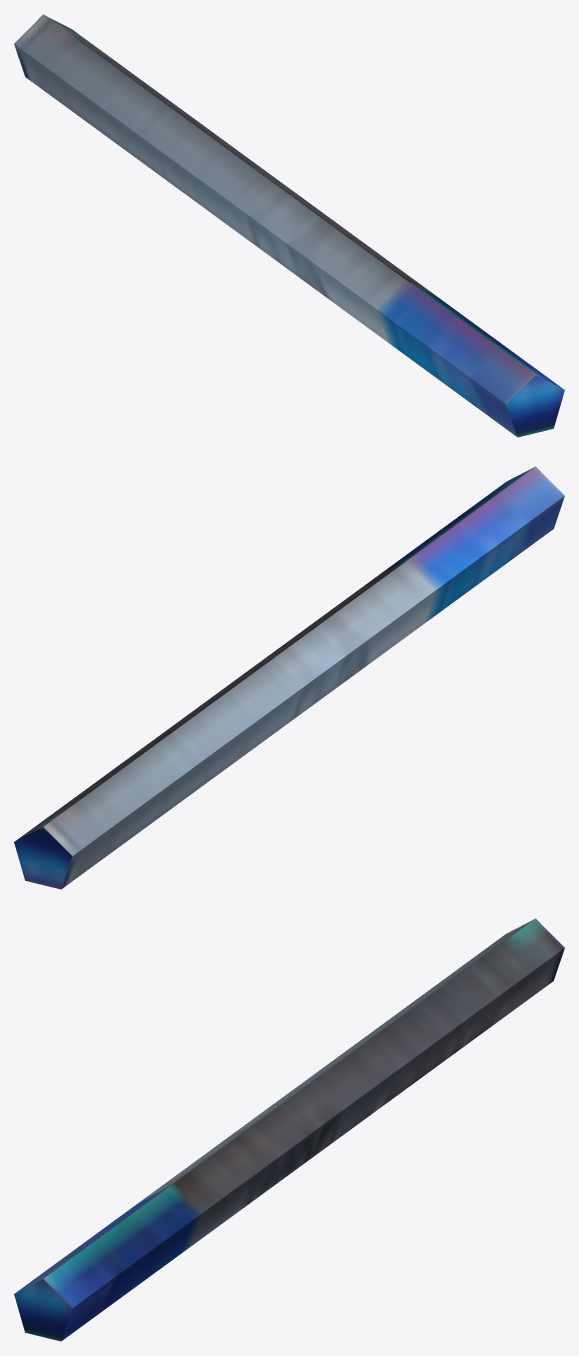
Rendered from Pencil01c.obj.
The picture shows the model from 3 angles, top to bottom: view 1: azimuth 30°, elevation 25°; view 2: azimuth 150°, elevation 25°; view 3: azimuth 330°, elevation 25°; orthographic projection.
Visible parts, largest first — view 1: Pencil01c; view 2: Pencil01c; view 3: Pencil01c.
Boxes of the visible parts, bbox=[...] form: Pencil01c: bbox=[14, 14, 564, 437]; Pencil01c: bbox=[14, 466, 564, 889]; Pencil01c: bbox=[14, 918, 564, 1341].
Bounding box in the file's own units: 0.0342 × 0.0325 × 0.5.
